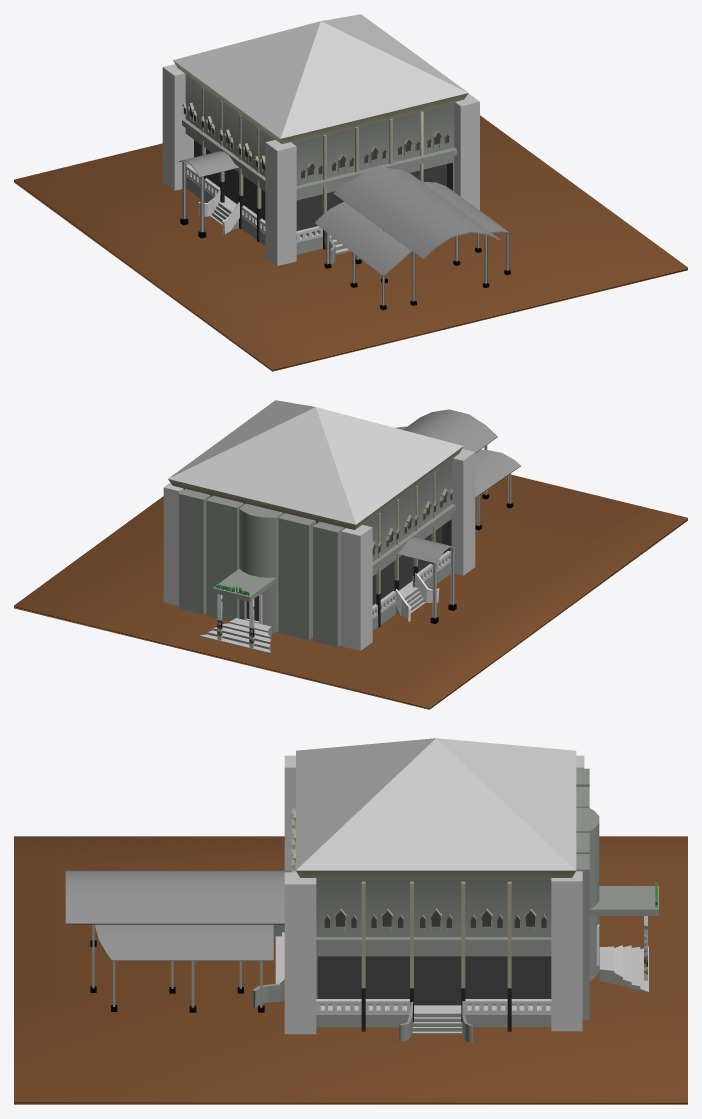
Rendered from MSU FIX.fbx.
3 views of the same model, one above another, from view 1: azimuth 30°, elevation 25°; view 2: azimuth 150°, elevation 25°; view 3: azimuth 270°, elevation 25° (orthographic). The views are drawn at different scales.
Visible parts, largest first — view 1: alas, bangunan, atap depan.001, beton (×2), atap depan.002, beton.001, atap depan, atap samping; view 2: alas, bangunan, beton (×2), dinding belakang.002, dinding belakang.001, dinding belakang, dinding belakang.003, dinding belakng, atap depan.001, beton.002, tangga belkang, atap depan.002 (+1 smaller); view 3: alas, bangunan, atap depan.001, atap depan, beton.001, beton.002, dinding belakang.002, tangga belkang, dinding belakng, beton, tangga samping.001, tiang.008 (+7 smaller).
Part boxes in pixels (x1,y1,x2,y2): alas: (14,115,687,371); bangunan: (173,14,468,254); atap depan.001: (333,166,500,259); beton (×2): (162,64,296,265); atap depan.002: (315,201,411,276); beton.001: (454,93,479,210); atap depan: (422,182,511,234); atap samping: (178,151,239,177); alas: (14,474,687,709); bangunan: (168,400,463,630); beton (×2): (341,449,475,650); dinding belakang.002: (212,503,283,632); dinding belakang.001: (278,513,316,640); dinding belakang: (206,495,244,620); dinding belakang.003: (313,521,344,647); dinding belakng: (179,489,210,614); atap depan.001: (403,409,497,453); beton.002: (163,482,183,605); tangga belkang: (199,618,271,653); atap depan.002: (475,449,520,497); alas: (14,836,687,1104); bangunan: (293,738,576,1027); atap depan.001: (65,870,291,924); atap depan: (95,924,273,960); beton.001: (284,872,316,1034); beton.002: (551,871,582,1031); dinding belakang.002: (576,807,658,980); tangga belkang: (599,945,648,992); dinding belakng: (576,854,589,1019); beton: (284,755,295,870); tangga samping.001: (412,1011,462,1034); tiang.008: (361,881,365,1031).
Size of the model in its own units: 7283 by 3020 by 7845.
